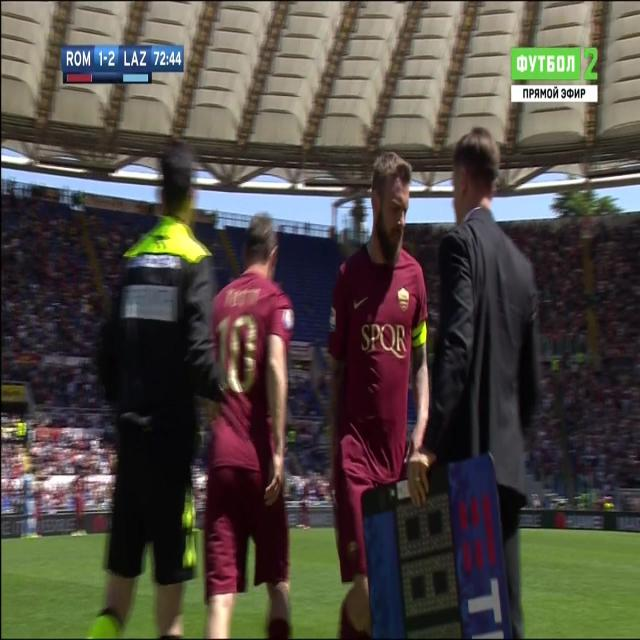Player: (324, 150, 436, 634), (194, 214, 296, 636)
